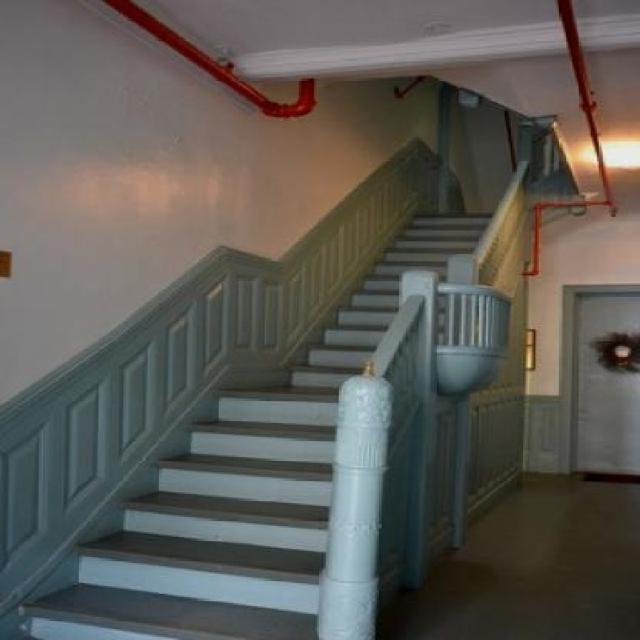stair: (1, 144, 602, 638)
